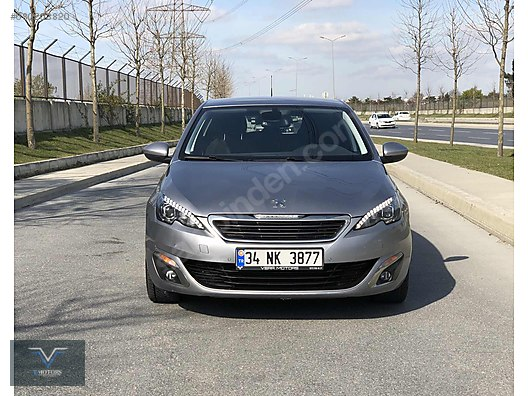peugeot: (126, 88, 424, 314)
